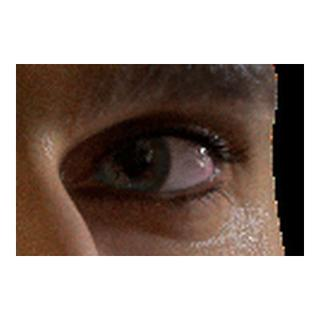pupil: (115, 145, 146, 176)
